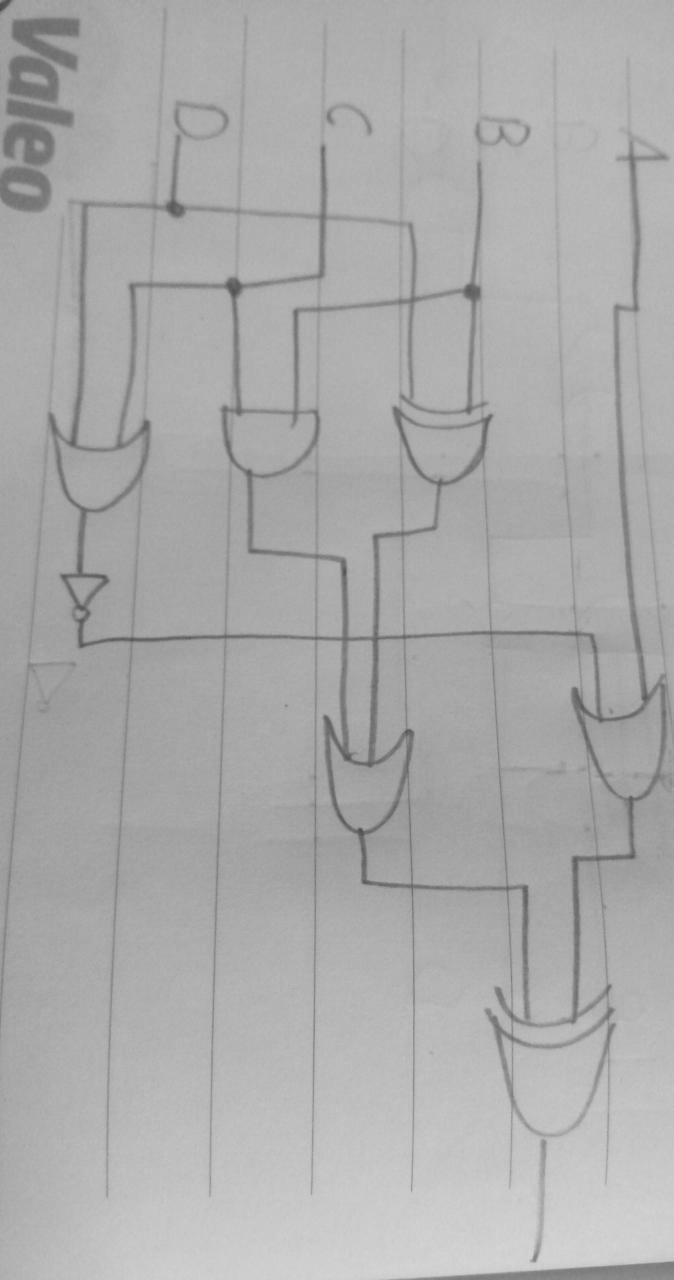AND: (212, 387, 341, 492)
NOT: (48, 555, 132, 641)
OR: (295, 692, 436, 842), (32, 388, 171, 524), (558, 675, 674, 814)
XOR: (465, 960, 633, 1158), (380, 370, 519, 493)
